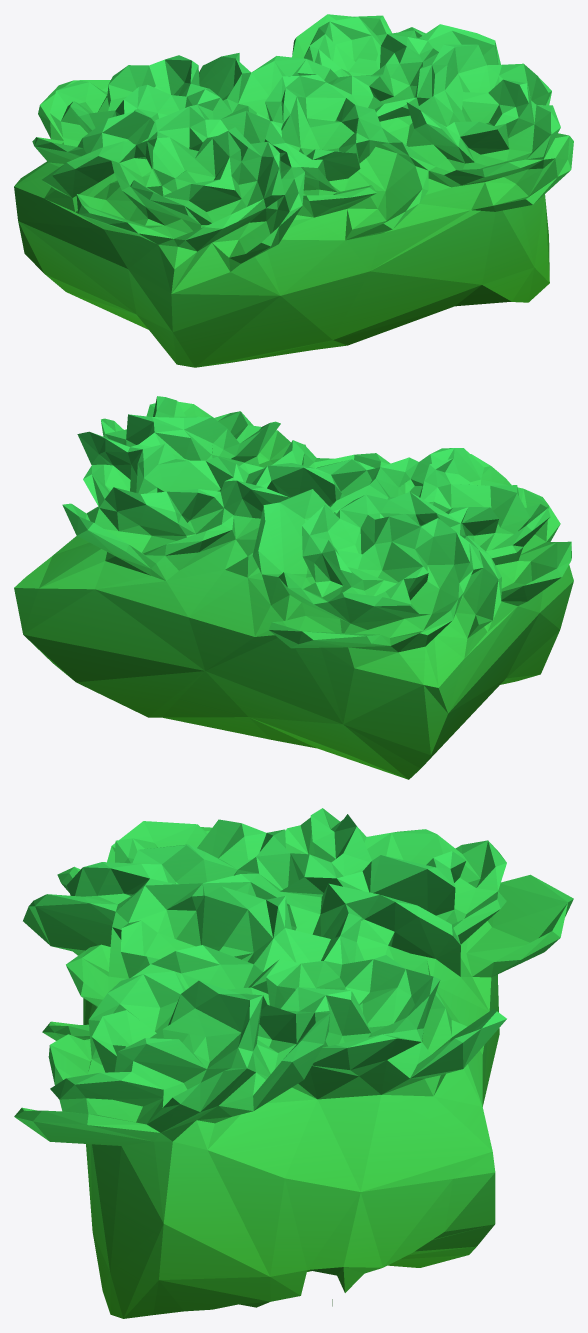
The model's file is lettuce_pile_lowpoly.fbx.
3 renders of one model, top to bottom at view 1: azimuth 30°, elevation 25°; view 2: azimuth 150°, elevation 25°; view 3: azimuth 270°, elevation 25°, orthographic. The views are drawn at different scales.
Visible parts, largest first — view 1: lettuce_pile_lowpoly; view 2: lettuce_pile_lowpoly; view 3: lettuce_pile_lowpoly.
Part boxes in pixels (left/top/right/bottom): lettuce_pile_lowpoly: left=14, top=14, right=573, bottom=367; lettuce_pile_lowpoly: left=14, top=396, right=573, bottom=779; lettuce_pile_lowpoly: left=14, top=808, right=573, bottom=1318.
Bounding box in the file's own units: 438 × 216 × 344.
